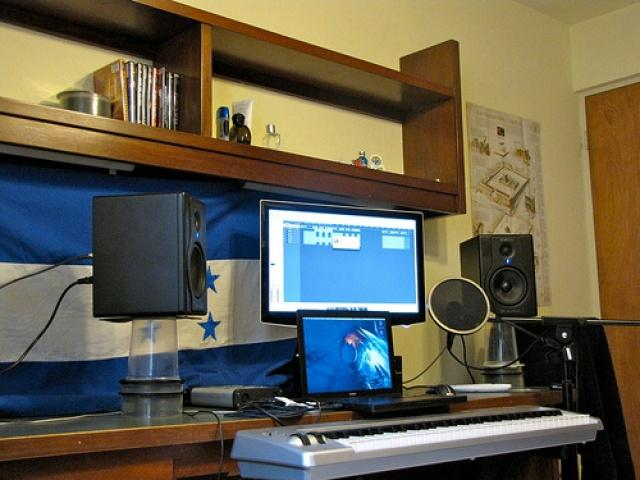AIO PC-Monitor-TV: (257, 198, 426, 328)
Rak: (0, 0, 467, 195)
